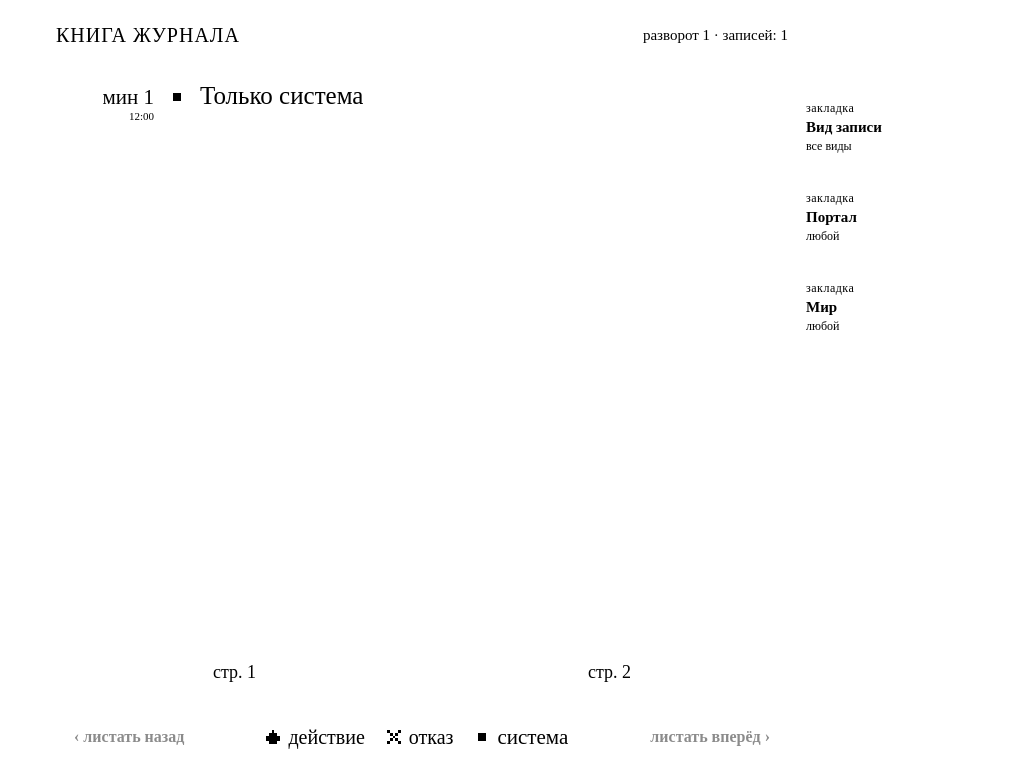
Test case: Книга журнала (spec §8, §9) › закладки-фильтры › фильтр без записей: книга пуста, подсказка про фильтр
This screenshot has width=1024, height=768.
Click the button "закладка Вид записи все виды".
click(880, 133)  # box [792,94,968,172]
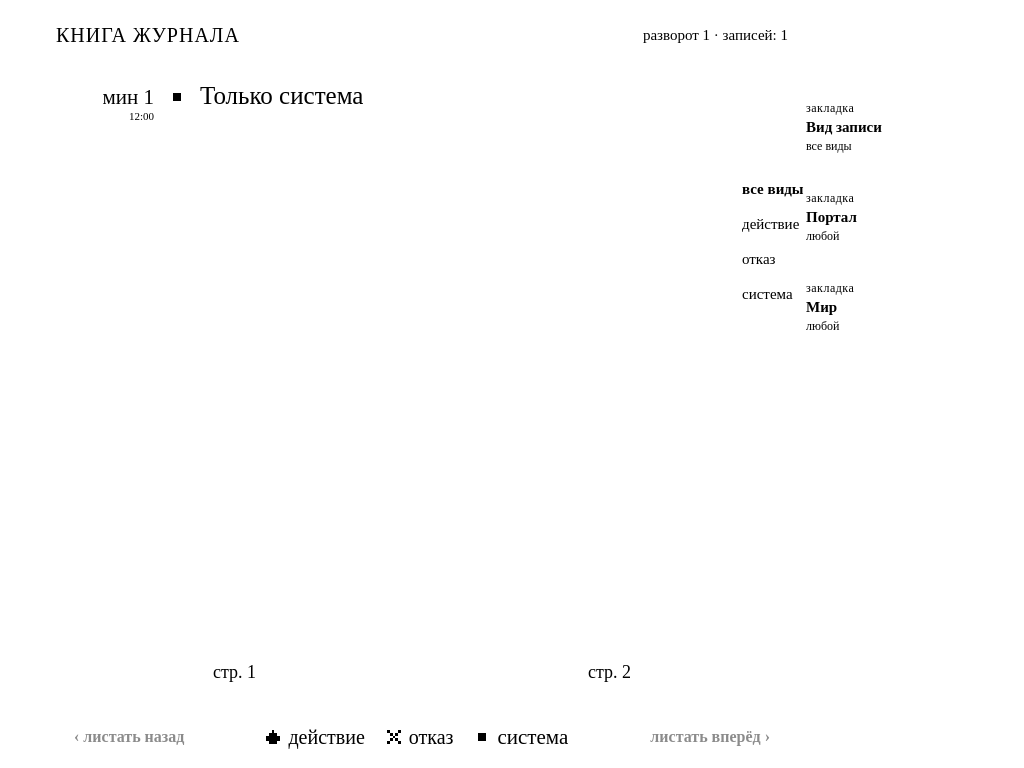
Click the button "отказ".
click(848, 260)  # box [728,242,968,277]
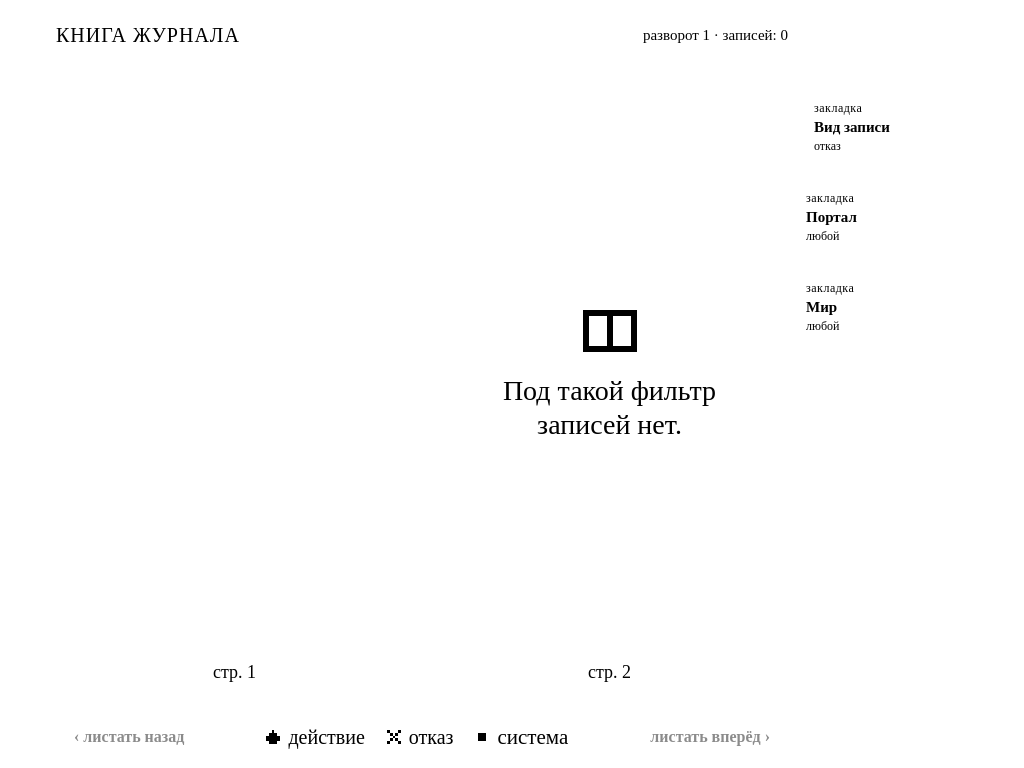
Expected: no list items are shown
Expected: the text "Под такой фильтр записей нет." is shown, [503,374,716,440]
Expected: the text "разворот 1 · записей: 0" is shown, [643,27,788,44]
